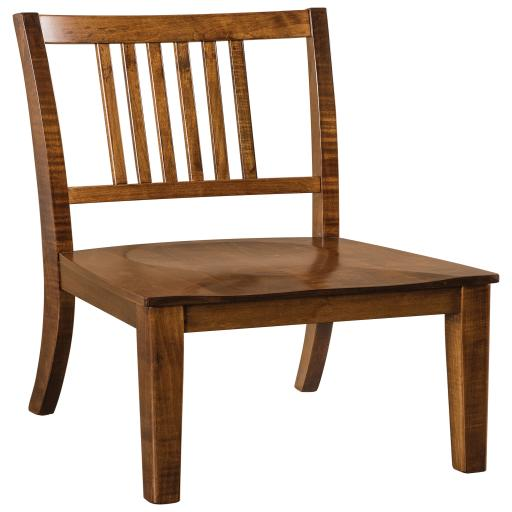chair: (0, 6, 503, 504)
